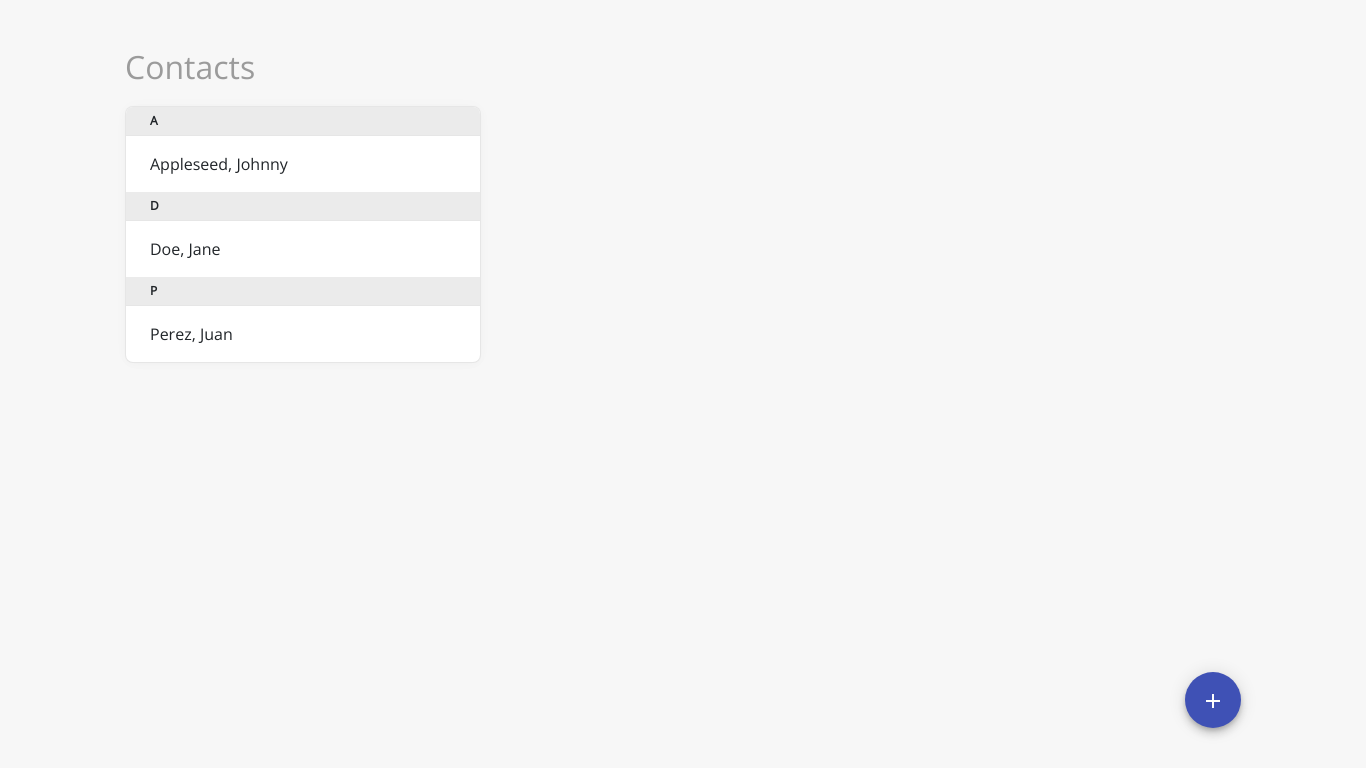
Dialog › Open the Dialog
This screenshot has width=1366, height=768.
Click the button with id "button_add" at [1213, 700], box [1185,672,1241,728]
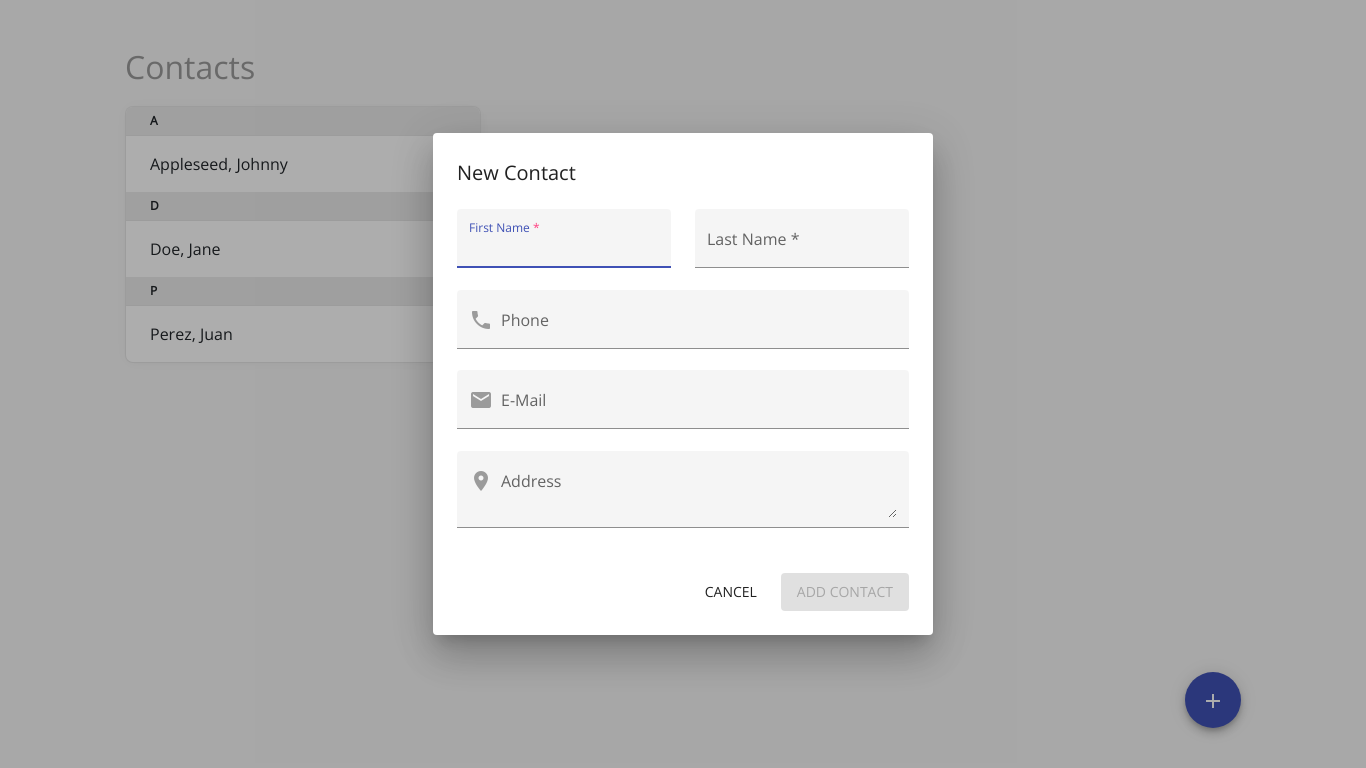
Check: the heading "New Contact" is shown, box [457,159,576,186]
Check: the button with id "button_submit" is disabled, box [781,573,909,610]
